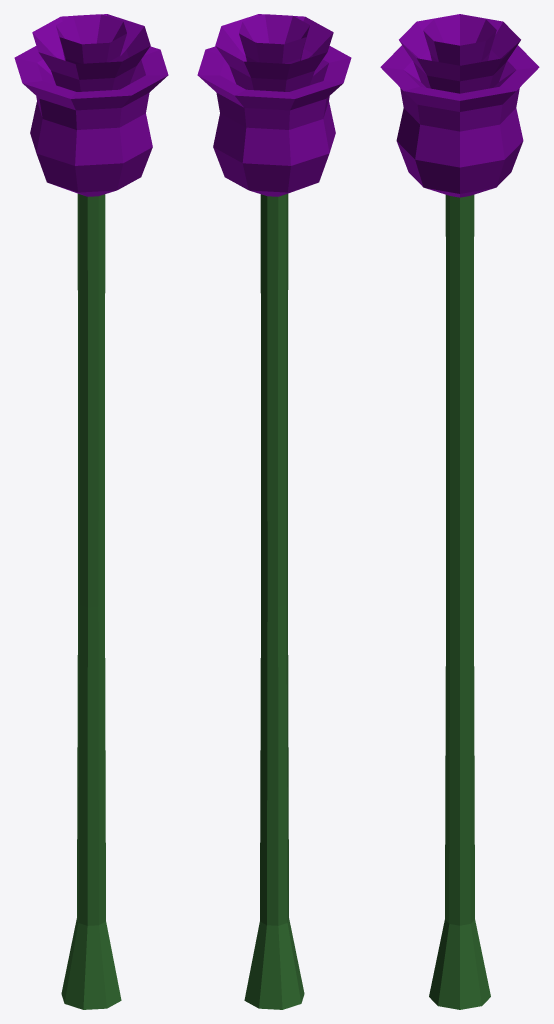
File: Rose.fbx
3 views of the same model, side by side, from view 1: azimuth 30°, elevation 25°; view 2: azimuth 150°, elevation 25°; view 3: azimuth 270°, elevation 25° (orthographic).
Visible parts, largest first — view 1: Rose; view 2: Rose; view 3: Rose.
Part boxes in pixels (x1,y1,x2,y2): Rose: (14,14,168,1009); Rose: (197,14,351,1009); Rose: (380,14,539,1009).
Bounding box in the file's own units: 0.1755 × 0.1755 × 1.17.
